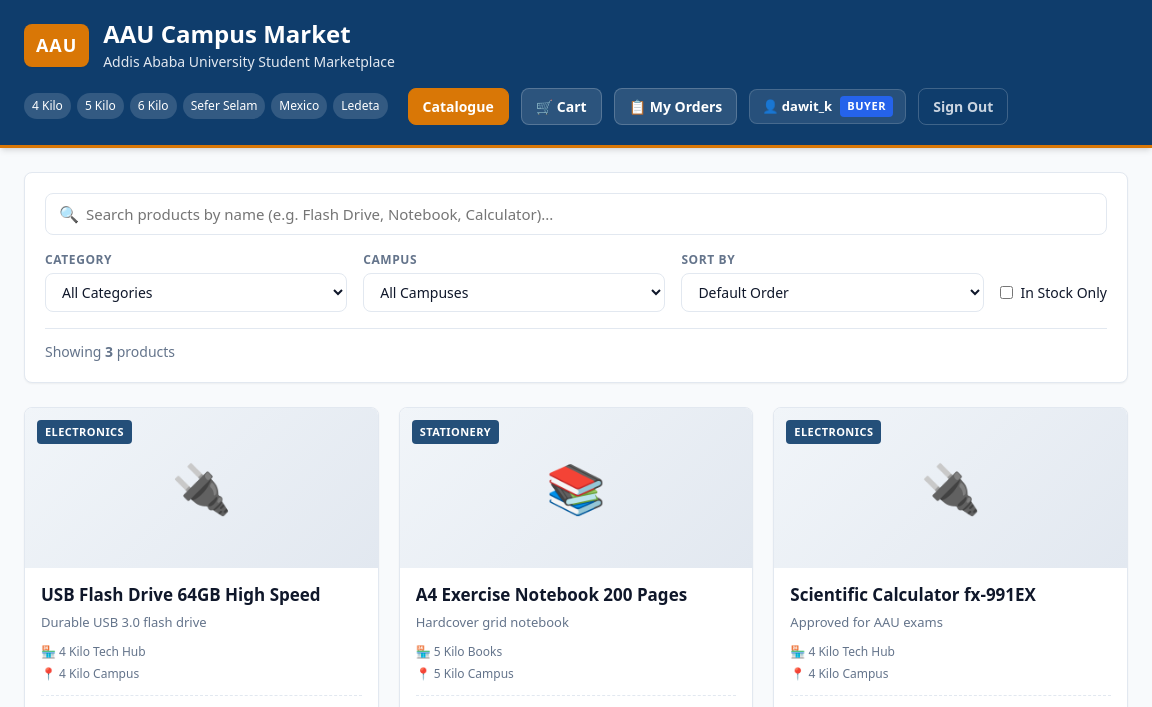
Test: App Component - Product Catalogue & Interaction › renders authenticated user badge in header and supports sign out
Expected: the element with test id "auth-user-menu" is shown, [614,88,1008,125]
Expected: the text "👤 dawit_k" is shown, [762,96,832,116]
Click Sign Out
Click the button "Sign Out": (963, 106) [918,88,1008,125]
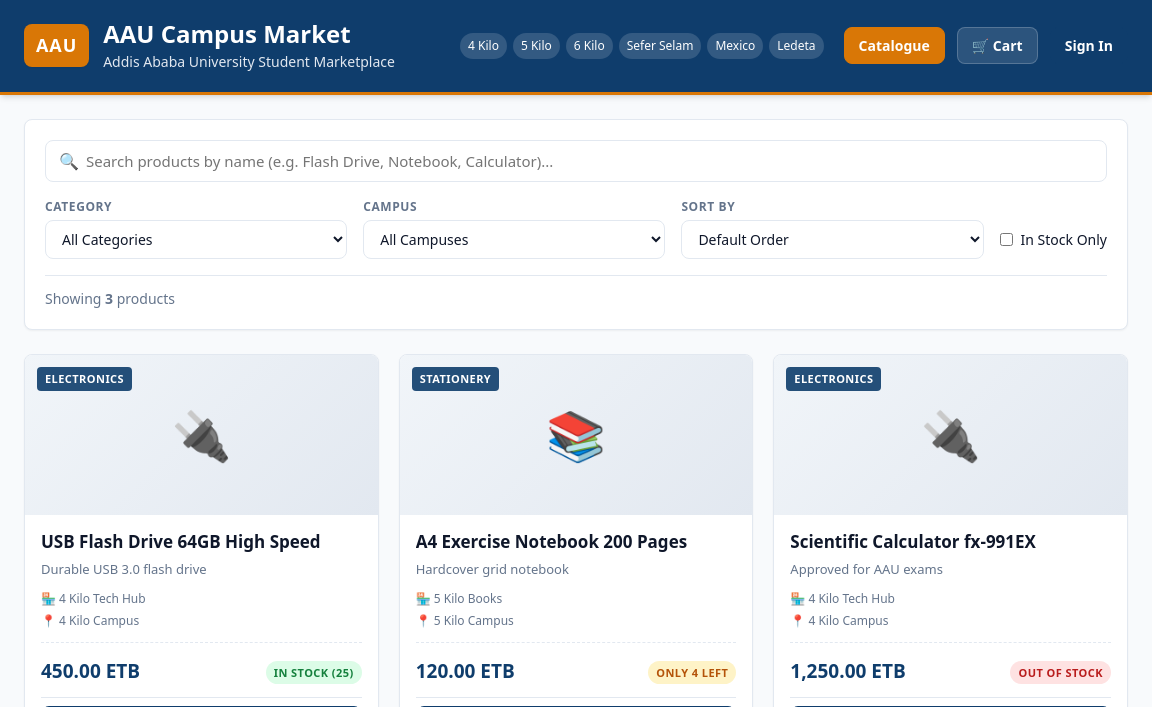
Result: the button "Sign In" is shown at [1050,27,1128,64]
Result: the element with test id "auth-user-menu" is gone
